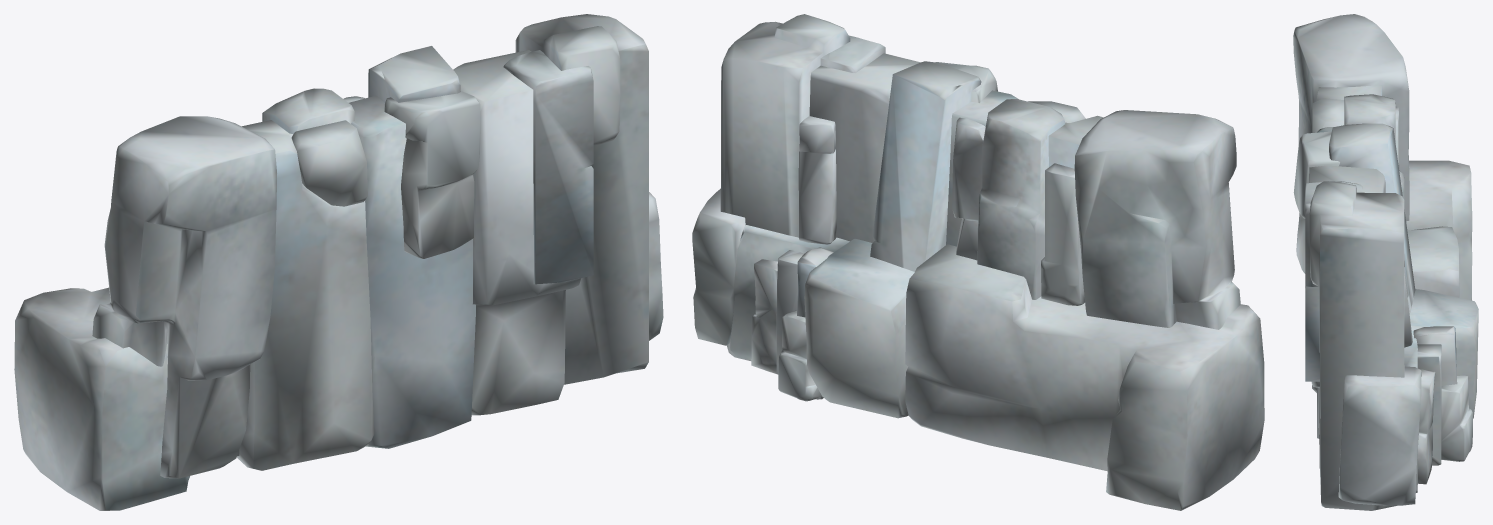
The model's file is P_CubicCliff16.obj.
The picture shows the model from 3 angles, left to right: view 1: azimuth 30°, elevation 25°; view 2: azimuth 150°, elevation 25°; view 3: azimuth 270°, elevation 25°; orthographic projection. The views are drawn at different scales.
Bounding box in the file's own units: 84.49 × 49.75 × 27.54.
